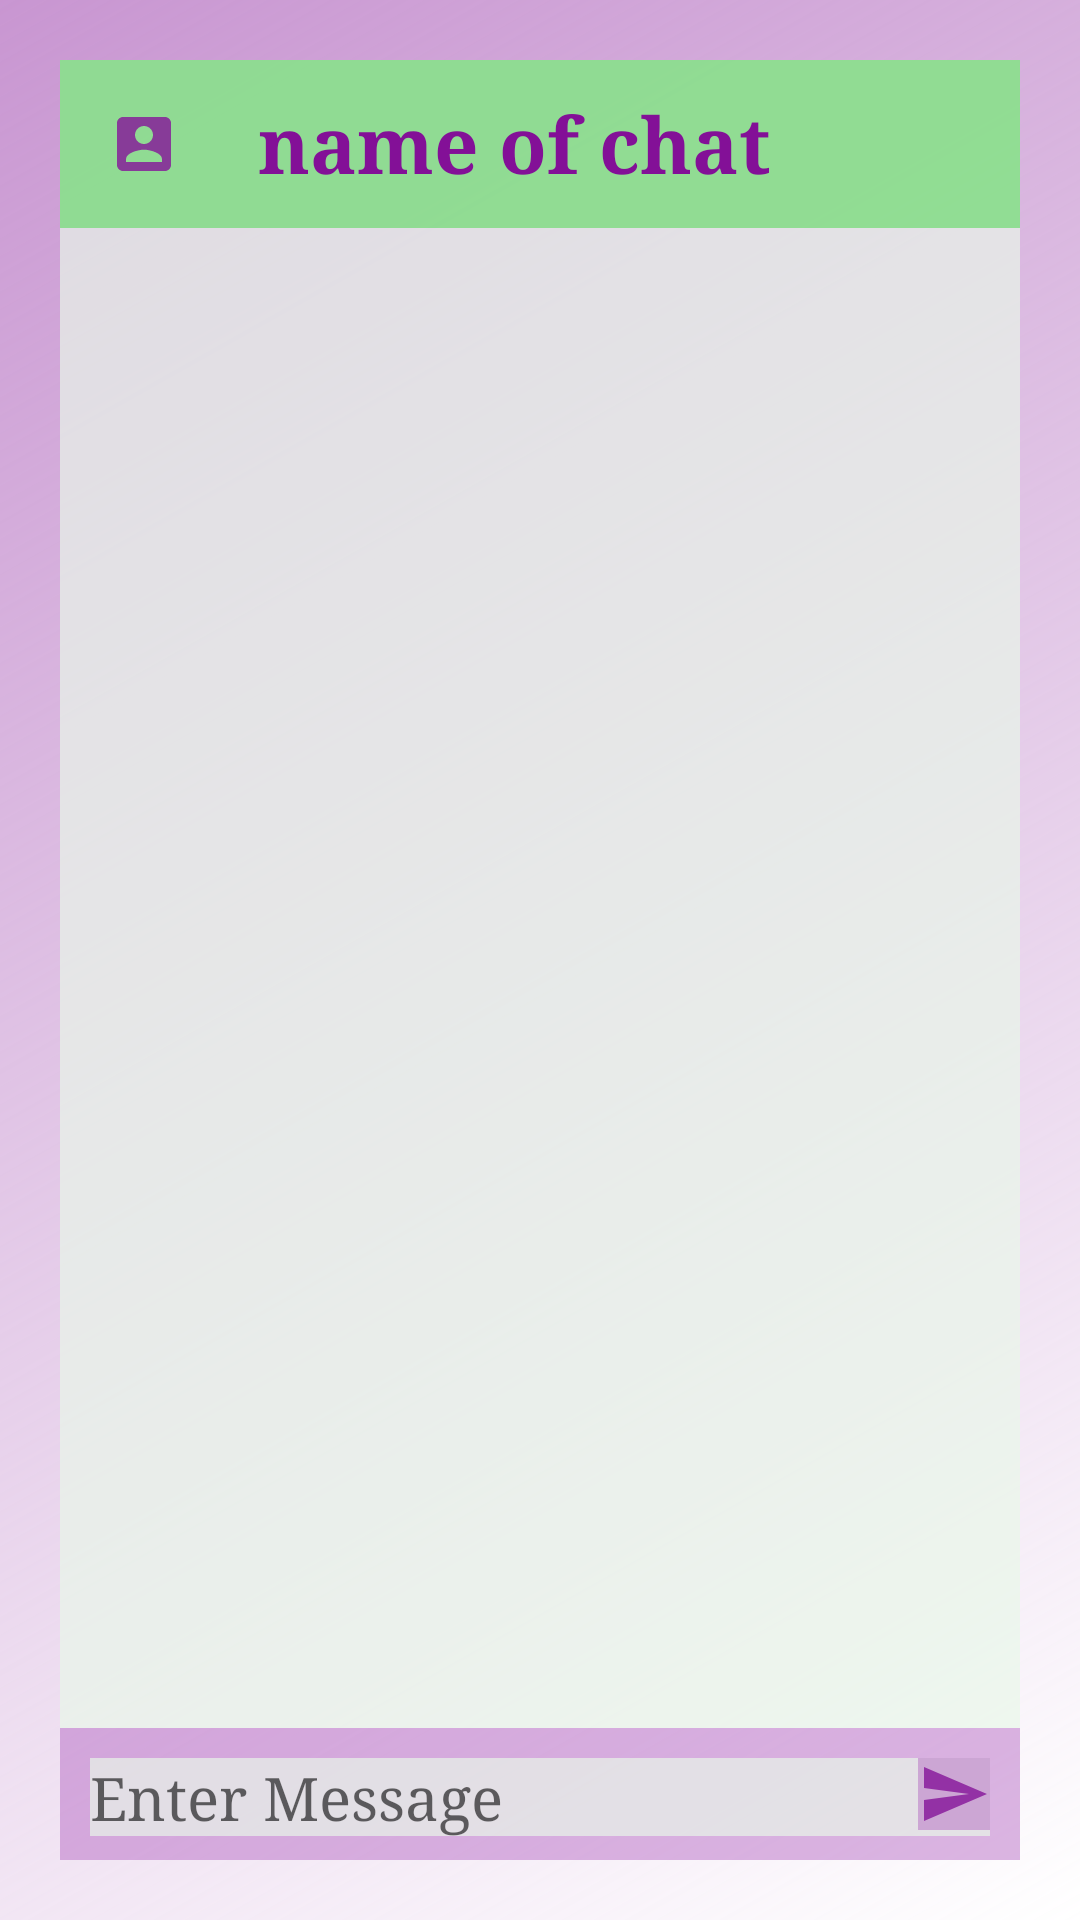

Screen size 1080x1920. Icon name, then its center in pixels as point (x, y):
send: point (954, 1794)
